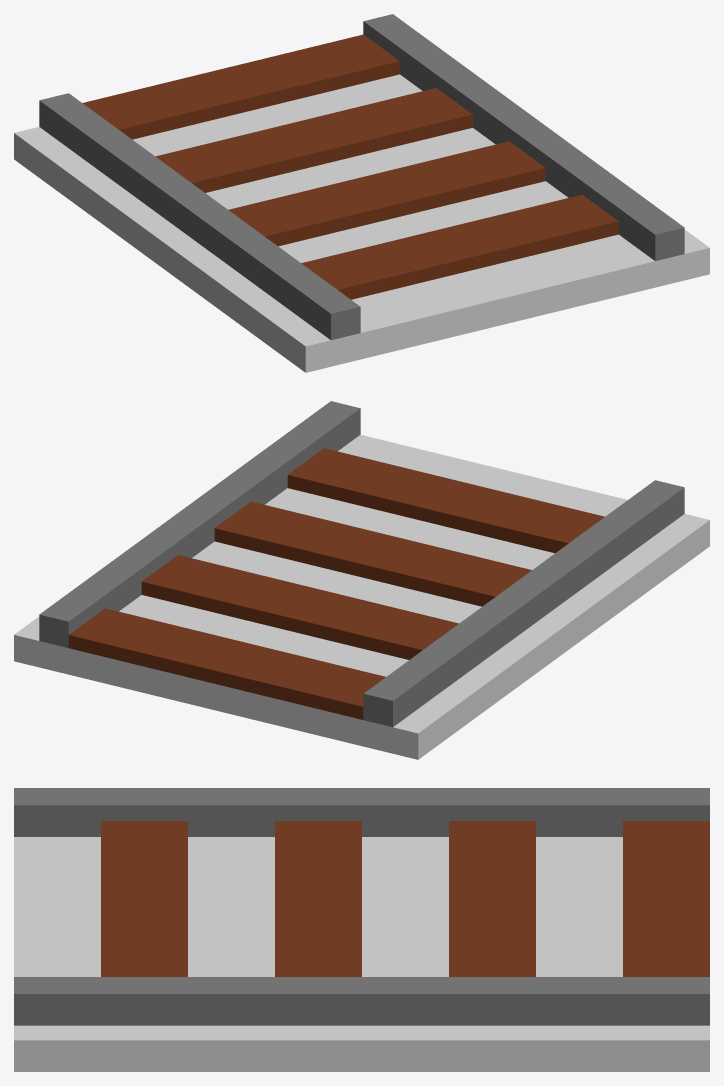
File: rail.fbx
3 renders of one model, top to bottom at view 1: azimuth 30°, elevation 25°; view 2: azimuth 150°, elevation 25°; view 3: azimuth 270°, elevation 25°, orthographic. The views are drawn at different scales.
Visible parts, largest first — view 1: Cube; view 2: Cube; view 3: Cube.
Part boxes in pixels (box(x1,y1,x2,y2)): Cube: box(14, 14, 709, 372); Cube: box(14, 401, 709, 759); Cube: box(14, 788, 709, 1071).
Bounding box in the file's own units: 160 × 20 × 200.
